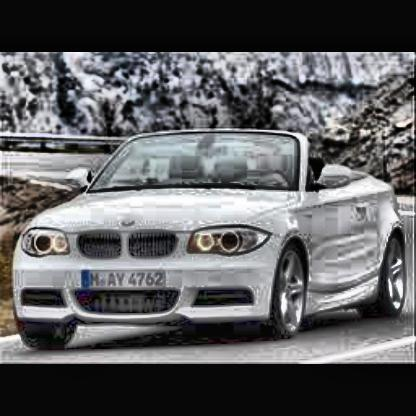BMW 1 Series Convertible 2012: (16, 131, 410, 352)
